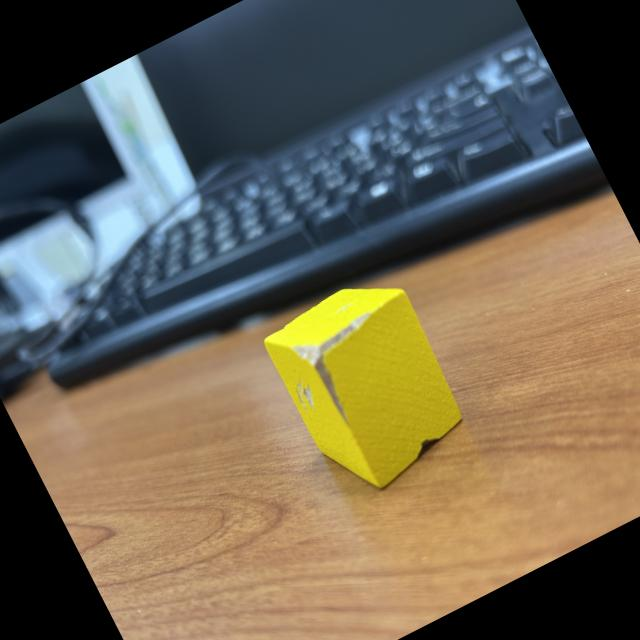broken: (256, 263, 482, 508)
